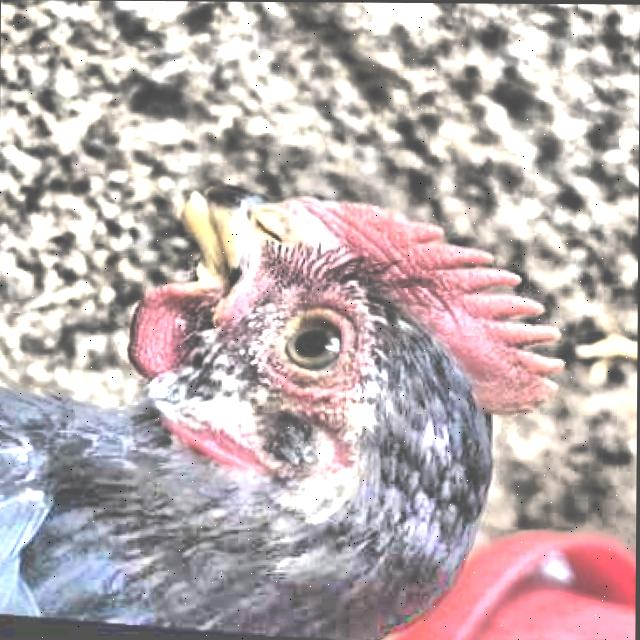Healthy: (252, 285, 360, 389)
